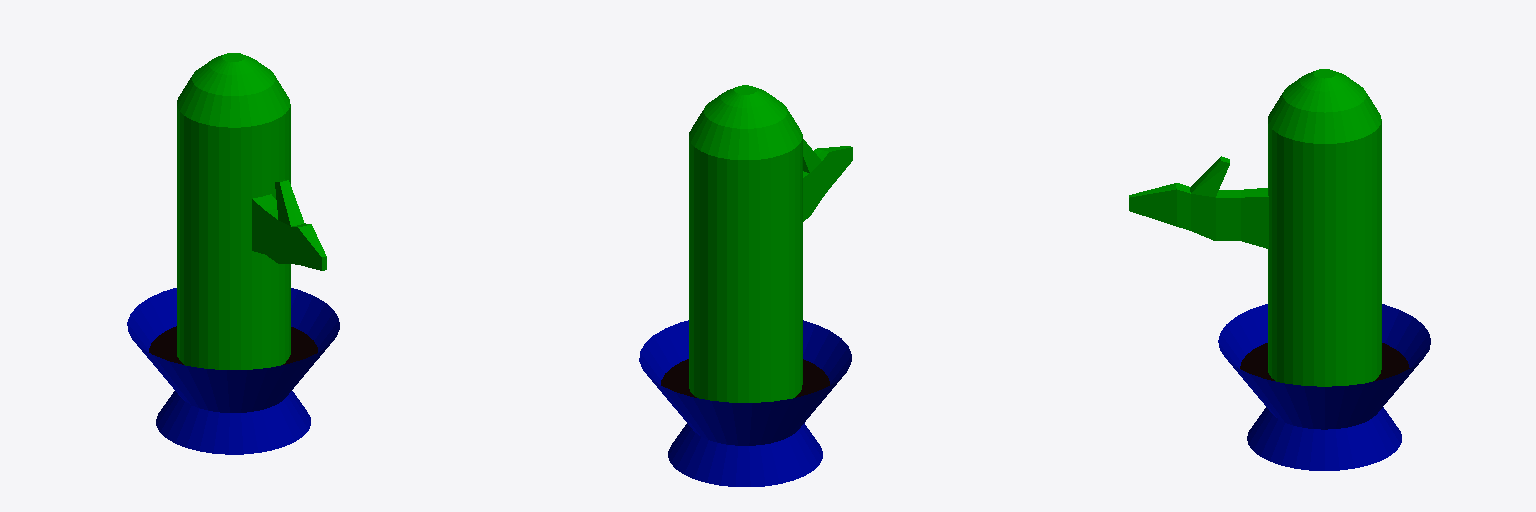
The model's file is pottedcactus.obj.
3 renders of one model, left to right at view 1: azimuth 30°, elevation 25°; view 2: azimuth 150°, elevation 25°; view 3: azimuth 270°, elevation 25°, orthographic.
Visible parts, largest first — view 1: Cylinder; view 2: Cylinder; view 3: Cylinder.
Part boxes in pixels (x1,y1,x2,y2): Cylinder: (127, 53, 339, 454); Cylinder: (639, 85, 852, 486); Cylinder: (1129, 69, 1430, 470).
Size of the model in its own units: 2.74 by 5.17 by 3.89.